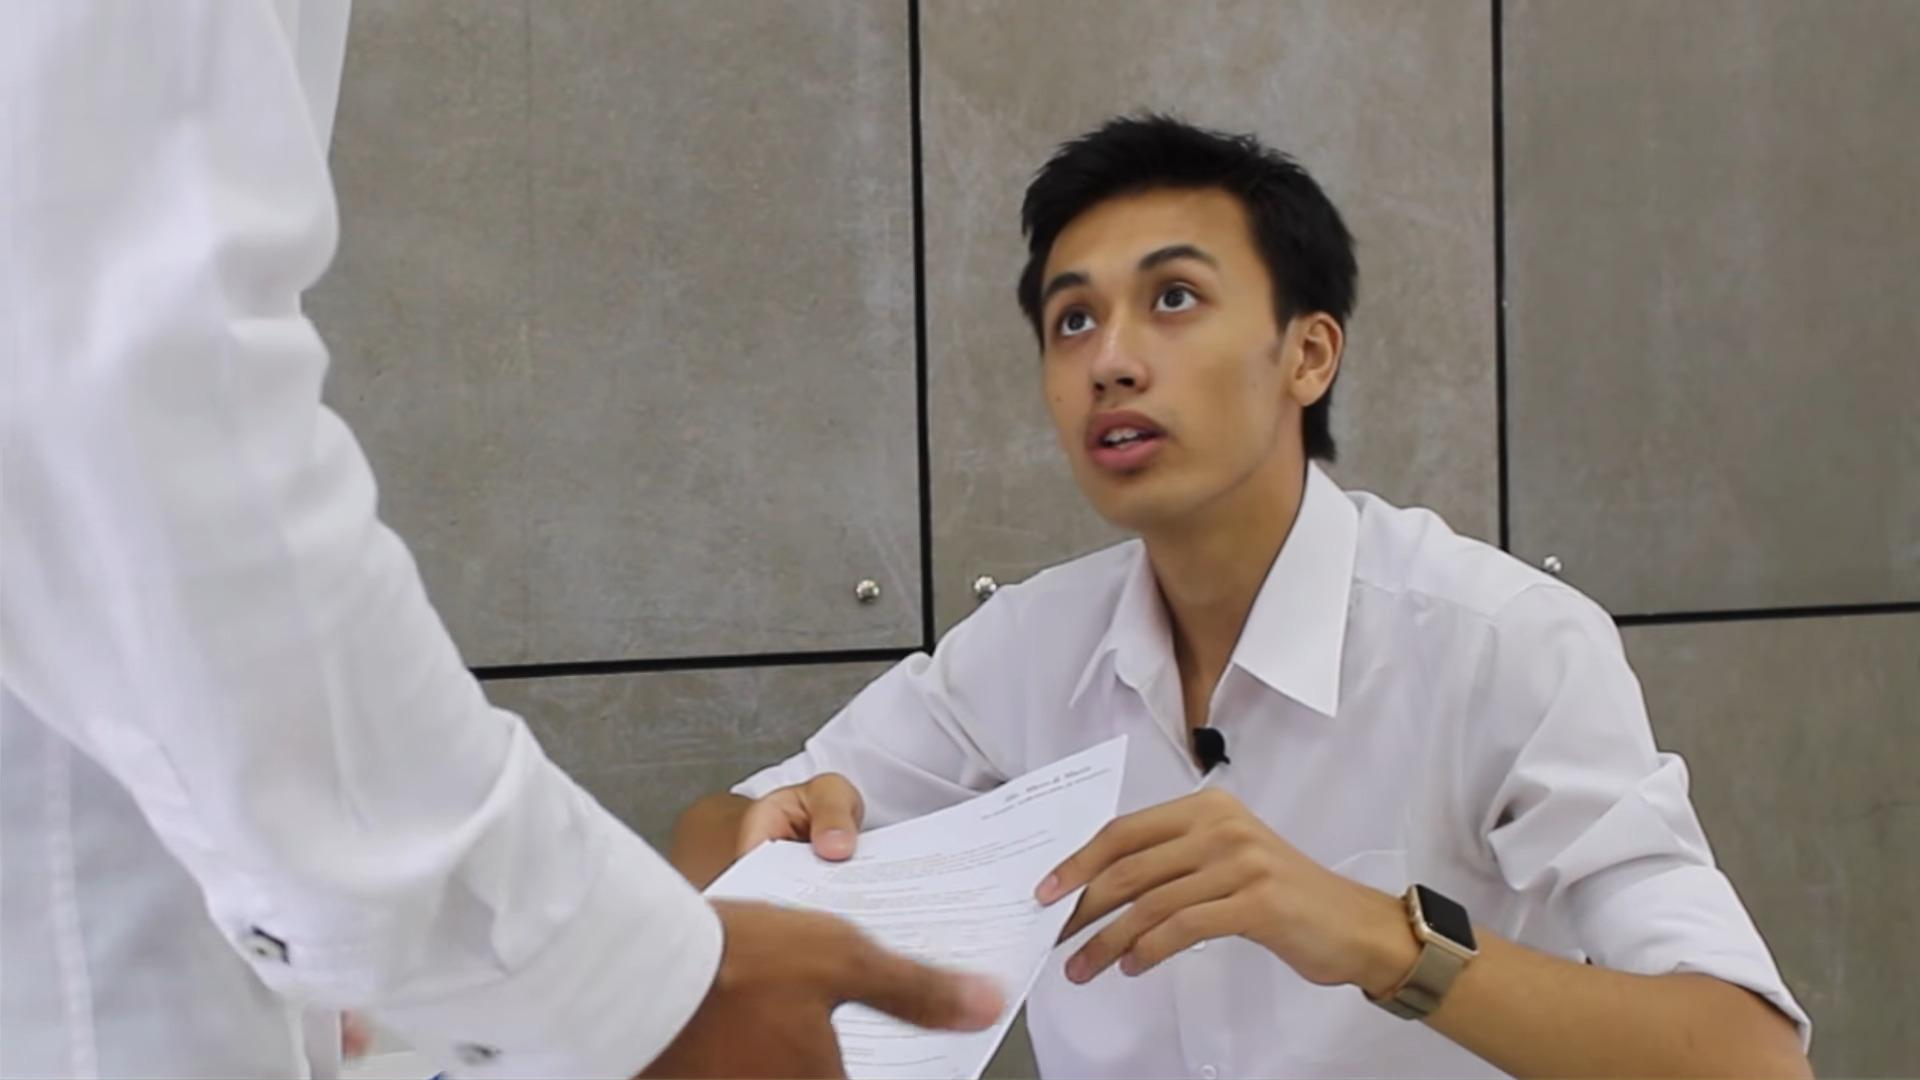good: (633, 63, 1825, 1080)
